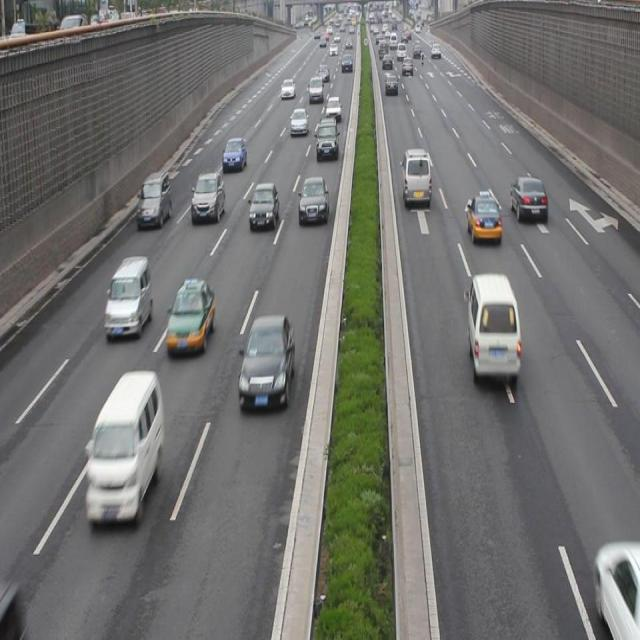car: (238, 315, 294, 407), (592, 539, 640, 639), (166, 278, 216, 355), (138, 171, 172, 230), (508, 174, 547, 225), (190, 169, 225, 224), (466, 192, 501, 243), (248, 180, 278, 232), (299, 174, 328, 224), (316, 117, 338, 162), (223, 135, 247, 172), (289, 106, 308, 137)
truck: (86, 368, 162, 522), (466, 269, 518, 379), (105, 255, 153, 336), (402, 147, 432, 206)
